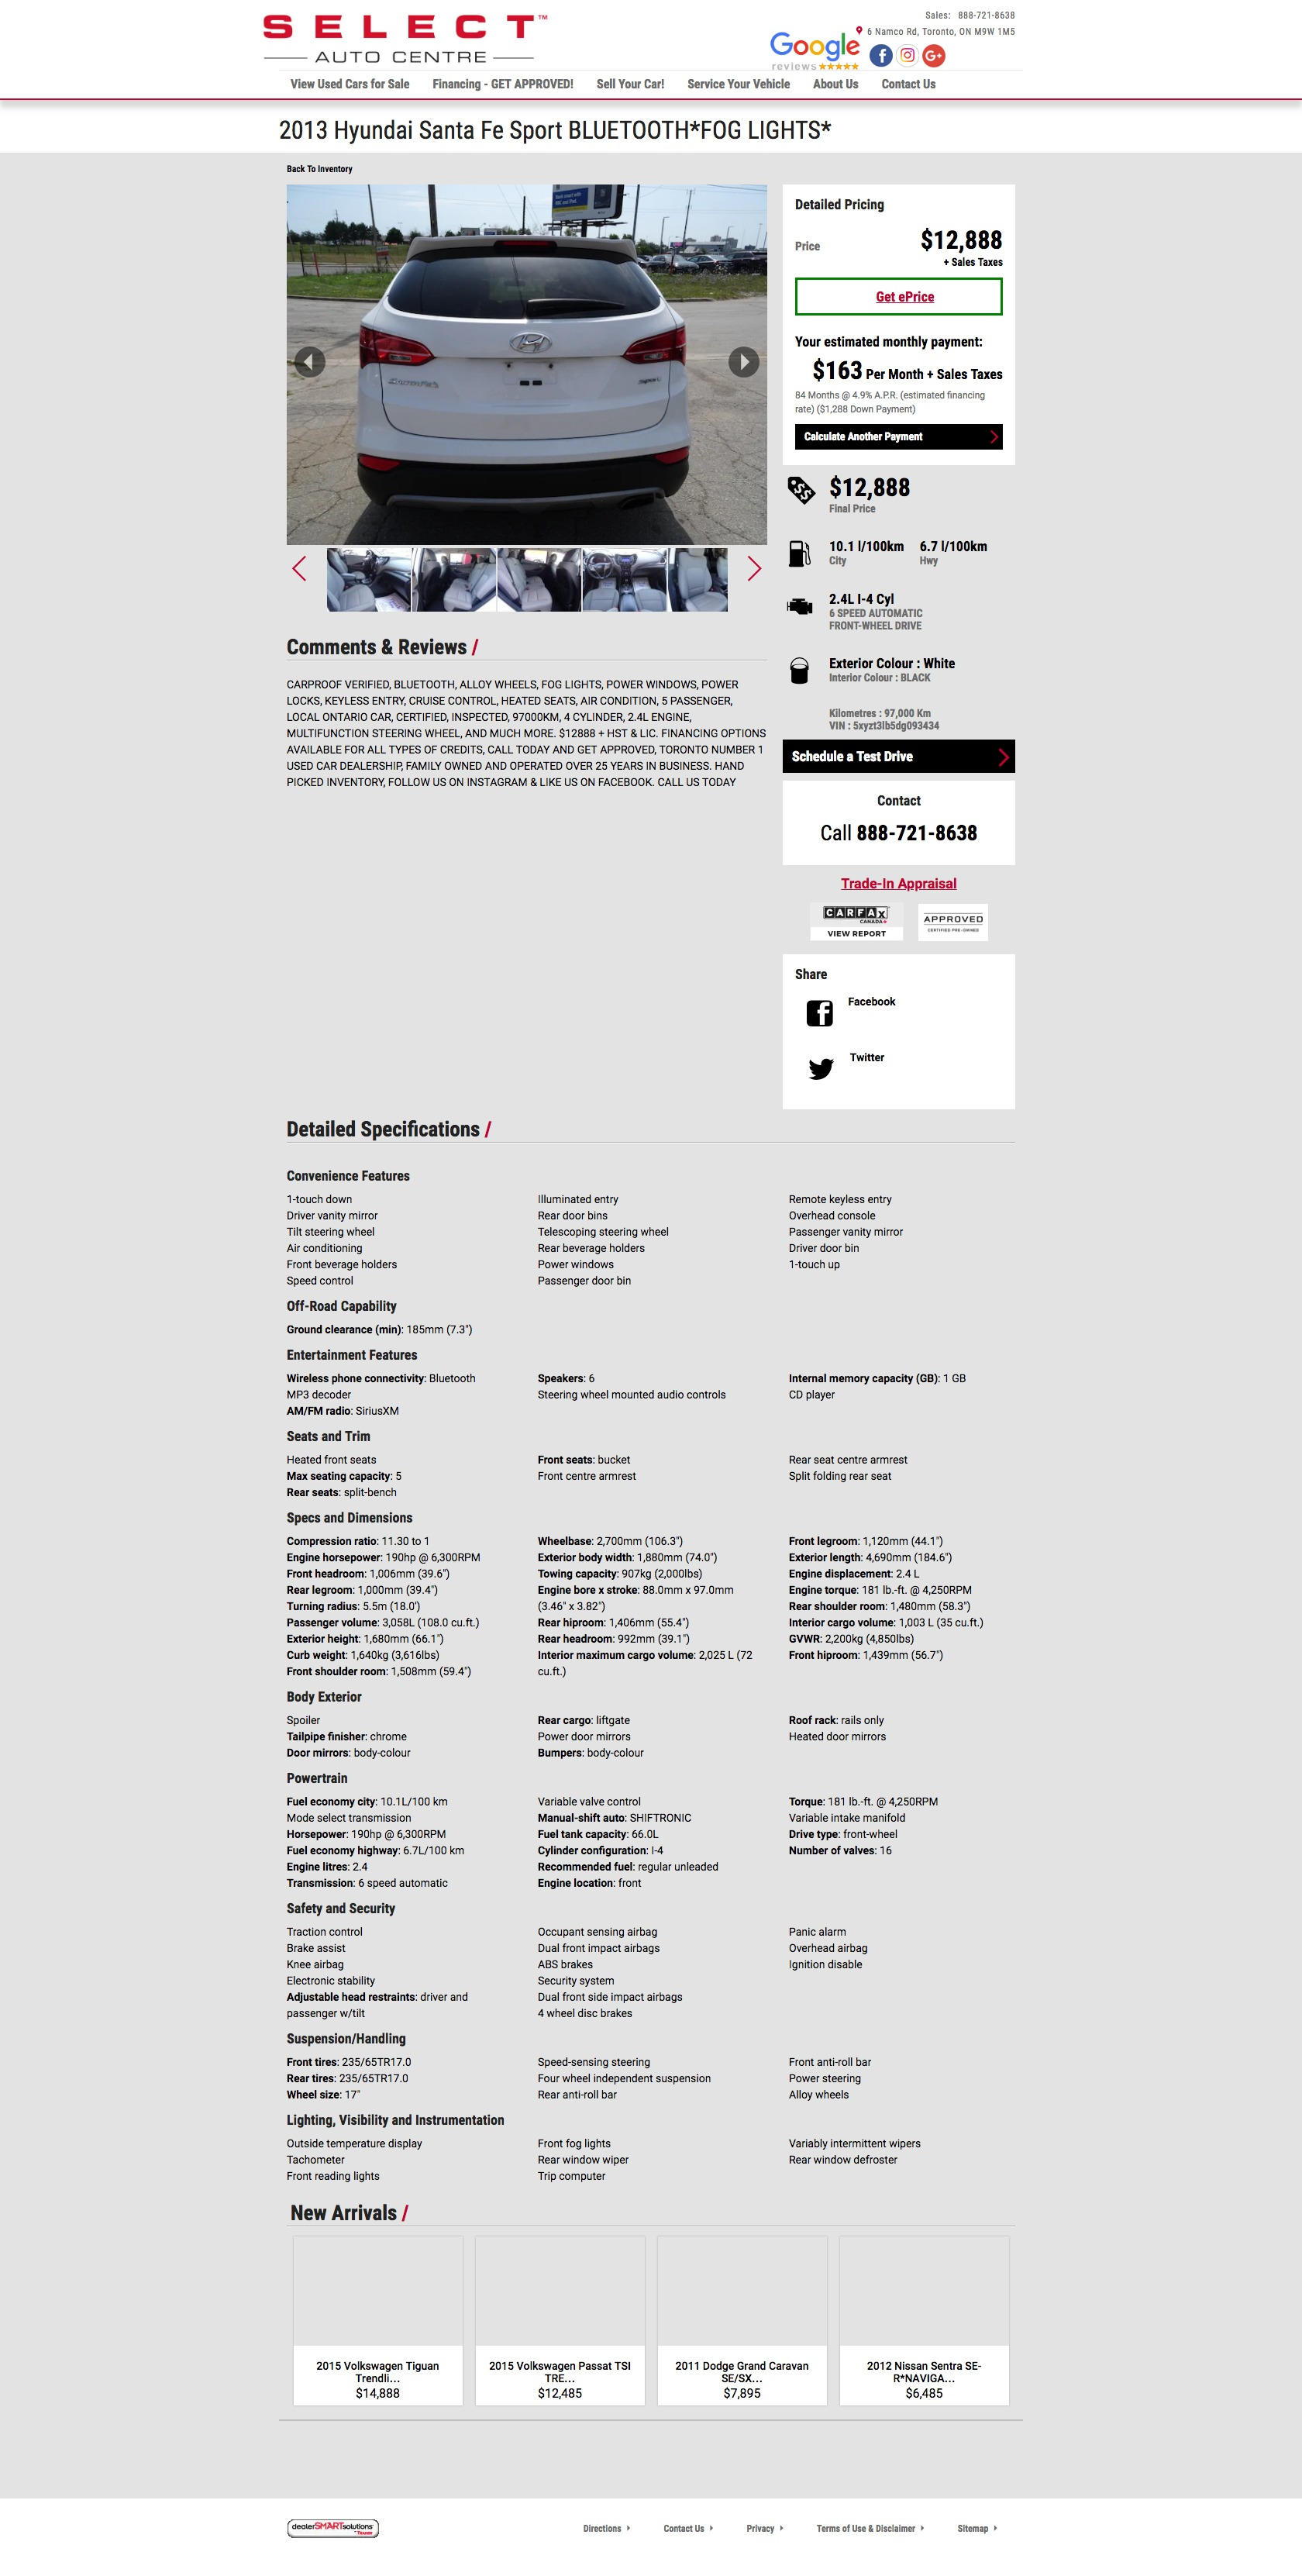car: (746, 555, 764, 583)
